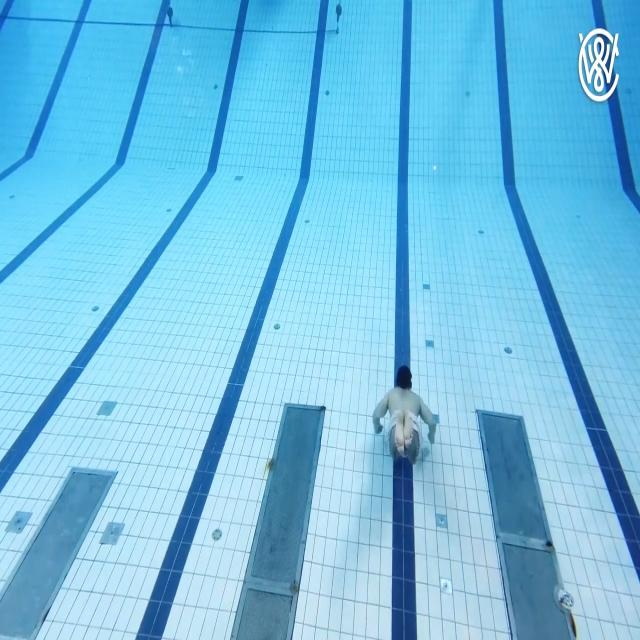Swimming: (372, 363, 439, 468)
